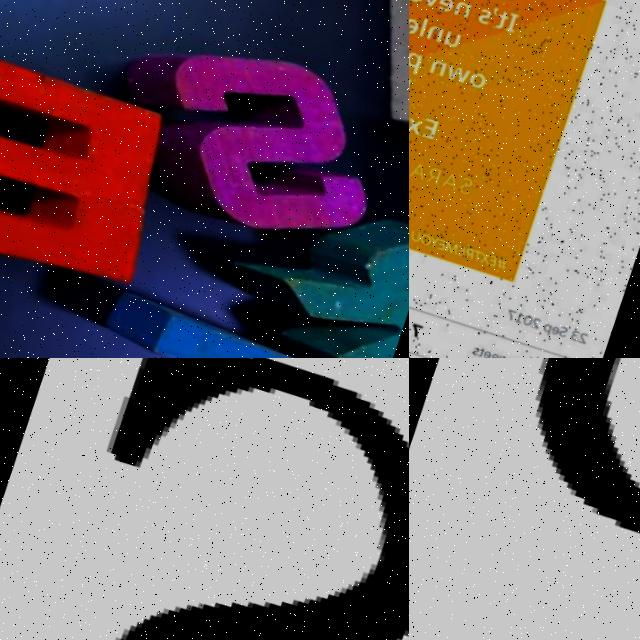0: (516, 318, 528, 333)
1: (508, 317, 519, 329)
2: (571, 338, 583, 350), (525, 322, 536, 335)
3: (564, 335, 575, 347)
7: (409, 326, 418, 341), (500, 314, 511, 326)
E: (0, 12, 213, 334)
P: (533, 358, 640, 542)
S: (0, 358, 409, 640), (100, 16, 400, 274)
